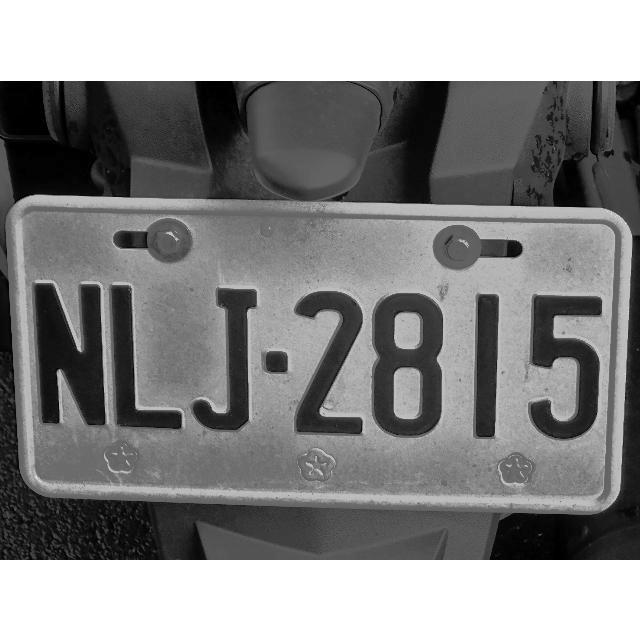-: (261, 348, 291, 380)
1: (456, 290, 514, 444)
2: (292, 288, 366, 442)
5: (527, 288, 605, 442)
8: (372, 288, 446, 442)
J: (192, 282, 258, 434)
L: (110, 281, 188, 433)
N: (32, 279, 108, 429)
